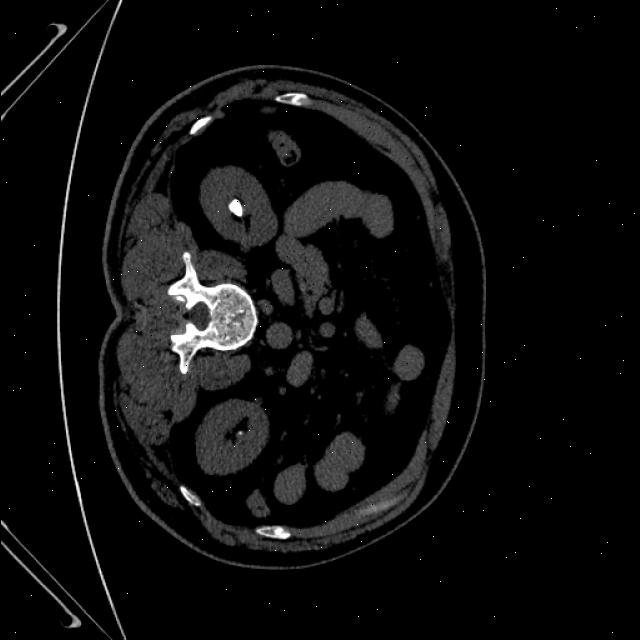kidneystone: (228, 199, 242, 218)
